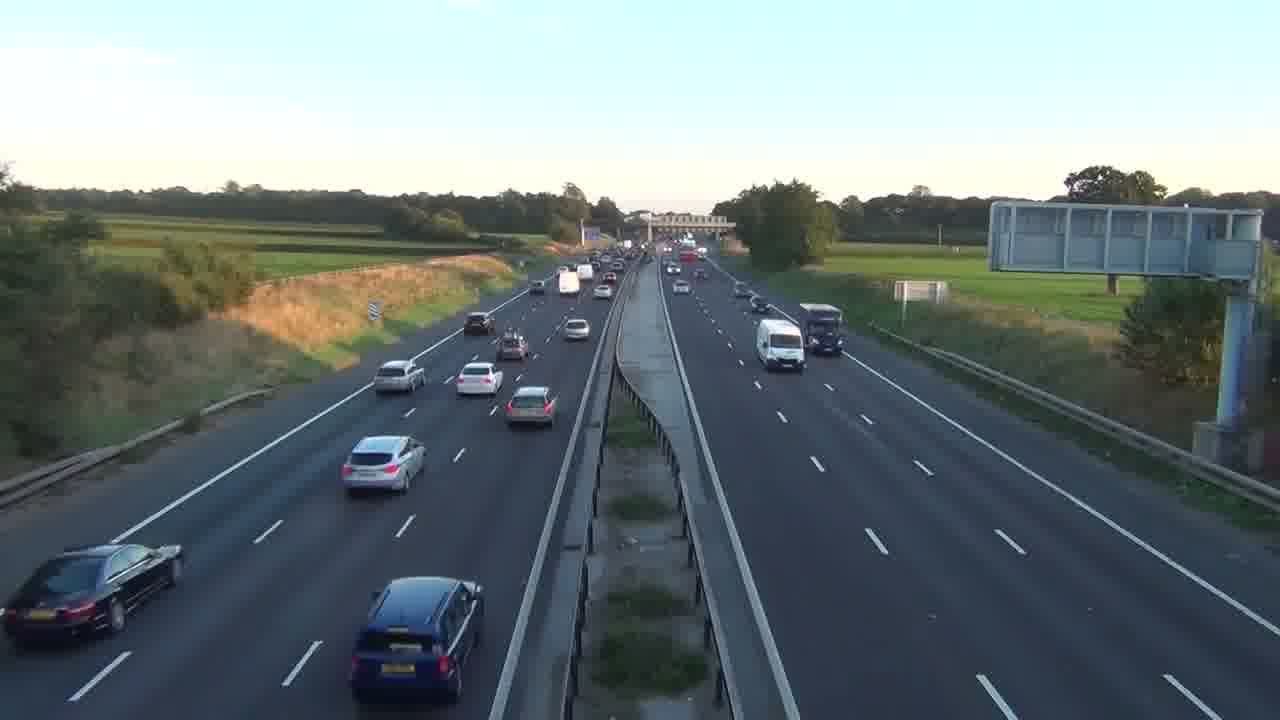bus: (754, 318, 806, 373)
car: (0, 541, 185, 649), (349, 575, 485, 704), (340, 433, 427, 495), (505, 384, 559, 428), (374, 358, 424, 395), (456, 361, 502, 396), (559, 317, 592, 342)
truck: (754, 318, 806, 373)
